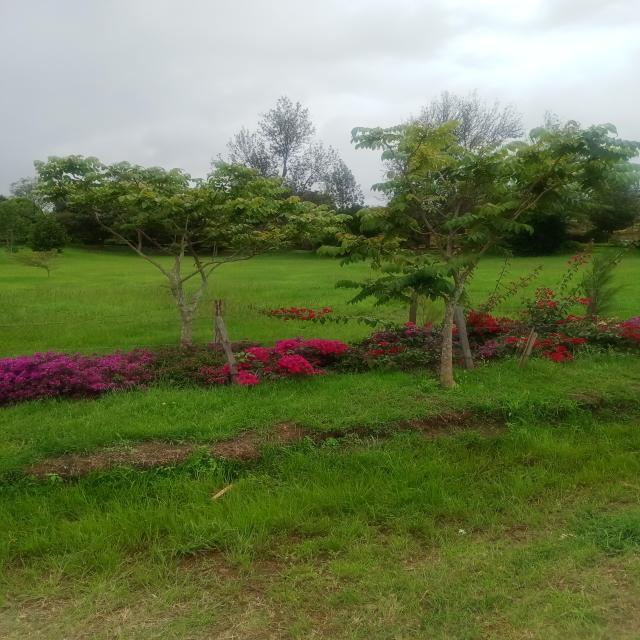Polyscias Kikuyensis: (335, 109, 640, 389), (39, 144, 348, 352)
